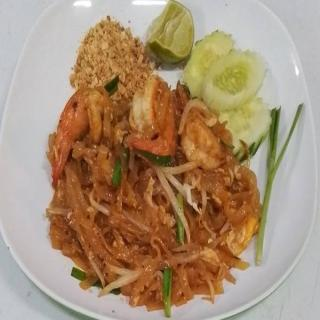carbs: (68, 160, 246, 300)
meat: (56, 88, 108, 162), (131, 82, 176, 162), (184, 119, 227, 169)
pad_thai: (56, 12, 272, 302)
veg: (189, 36, 260, 106), (151, 3, 193, 63), (227, 106, 272, 162), (259, 182, 271, 264), (269, 106, 278, 178), (163, 268, 172, 320)
